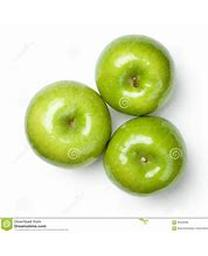apple: (24, 80, 111, 168), (103, 116, 186, 196), (95, 33, 175, 115)
